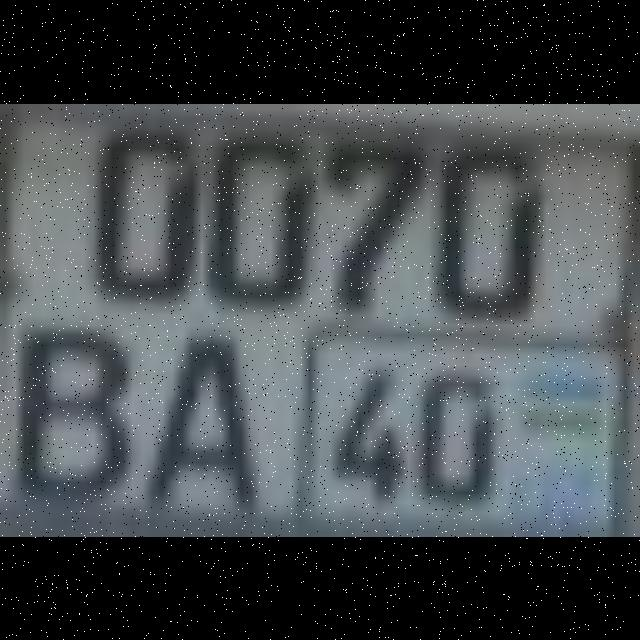0: (89, 122, 187, 280), (433, 133, 522, 300), (207, 122, 296, 280), (413, 359, 482, 487)
4: (324, 359, 394, 487)
7: (315, 132, 413, 290)
A: (148, 329, 246, 487)
B: (10, 319, 118, 477)
